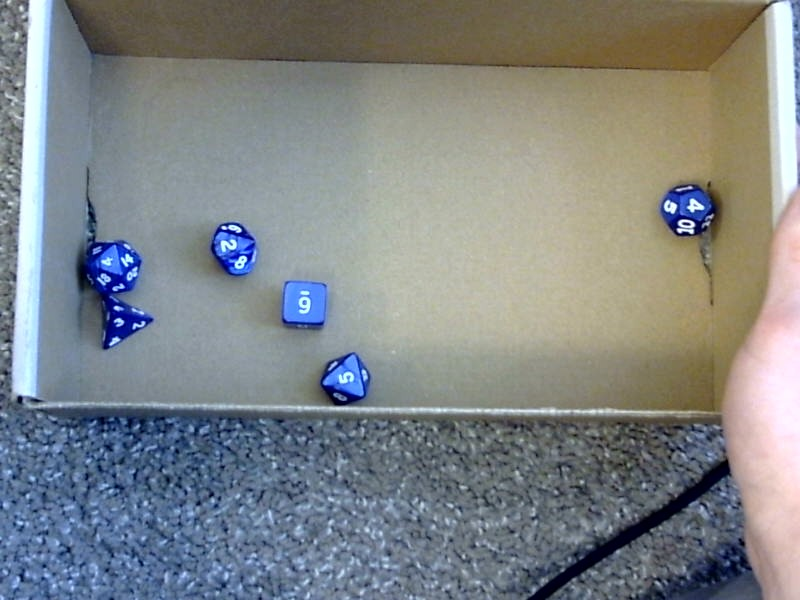d10 2: (207, 215, 259, 280)
d12 4: (657, 173, 720, 241)
d20 4: (79, 233, 144, 294)
d4 3: (90, 299, 161, 351)
d6 6: (277, 275, 332, 331)
d8 5: (316, 350, 376, 402)
